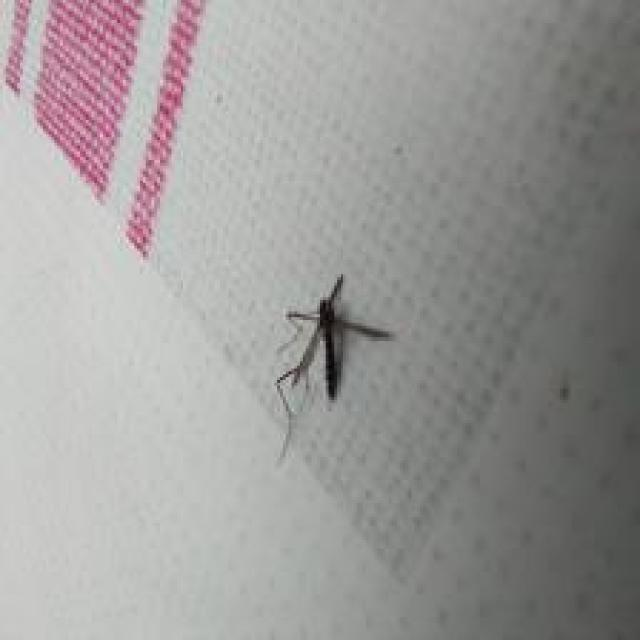Aedes albopictus: (272, 273, 394, 464)
